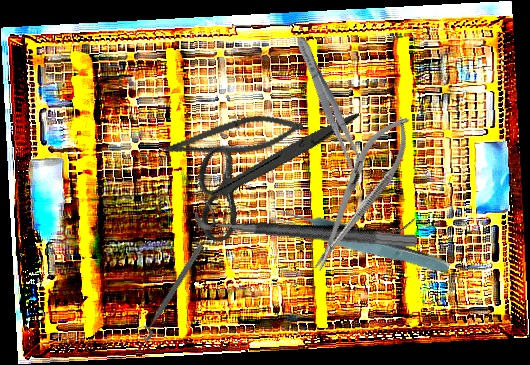Dressing Forceps: (291, 33, 367, 174)
Fixation Ring: (193, 196, 420, 249), (132, 238, 207, 343)
Iris Scissors: (171, 60, 362, 276)
Micro Scissor: (157, 105, 307, 173)
Needle Holder: (297, 105, 424, 280)
Spatula Surgical: (216, 139, 417, 317)
Tissue Forceps: (268, 201, 453, 280)
